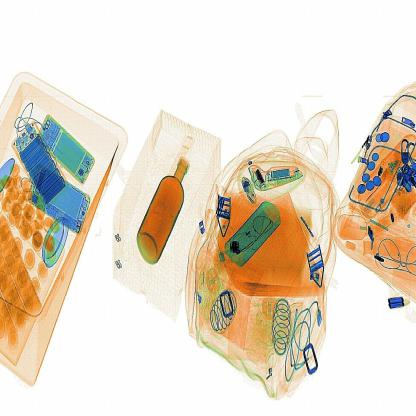scissors: (228, 238, 242, 260)
